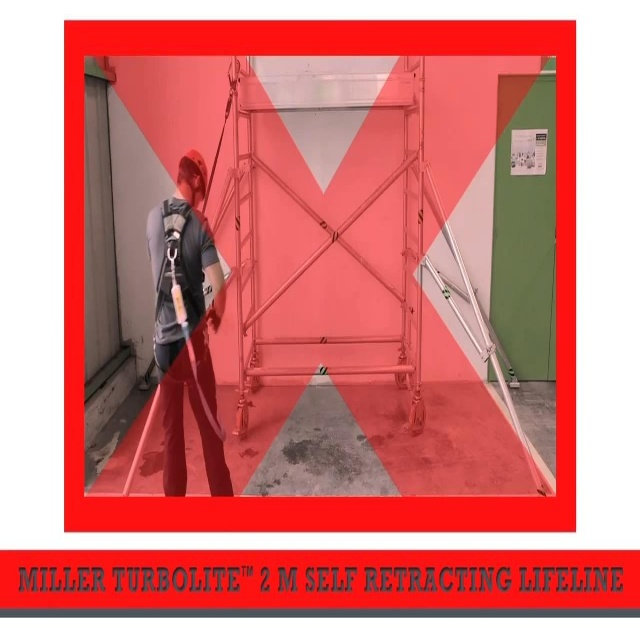Arnes_seguridad: (148, 196, 207, 385)
